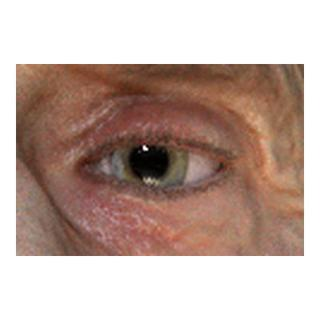pupil: (129, 141, 169, 181)
